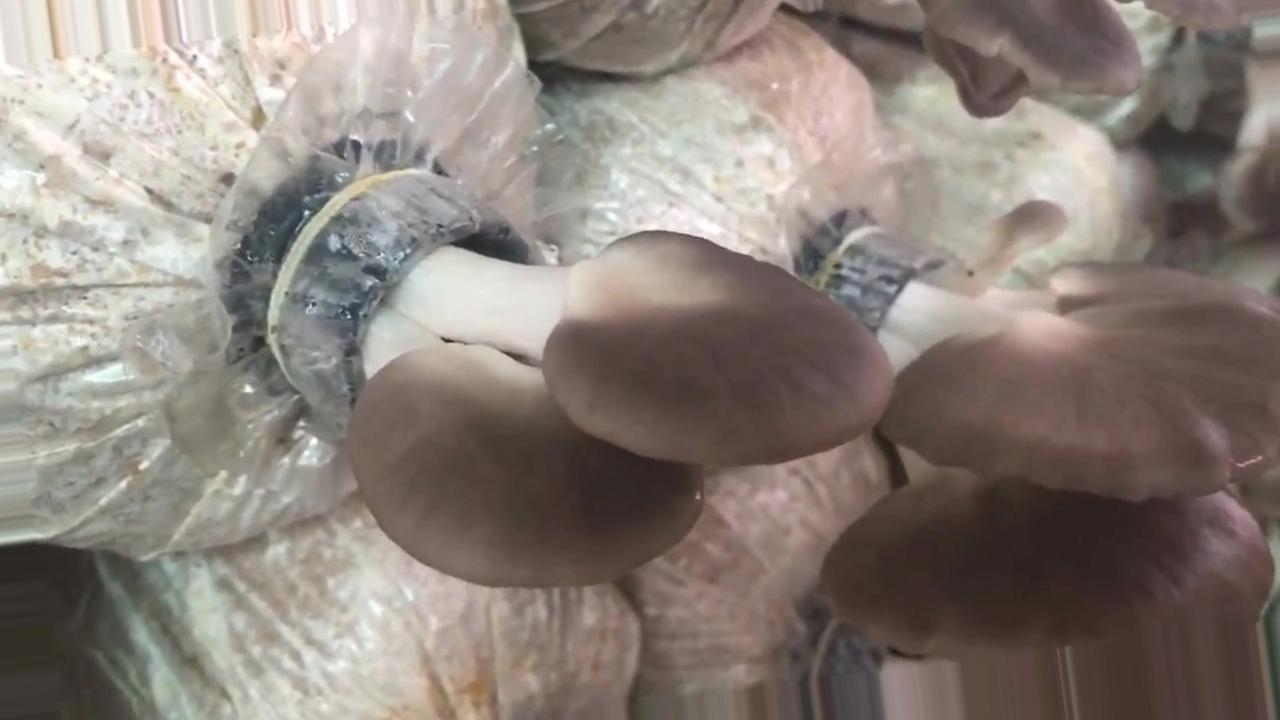nam: (260, 149, 892, 593), (818, 202, 1280, 715)
